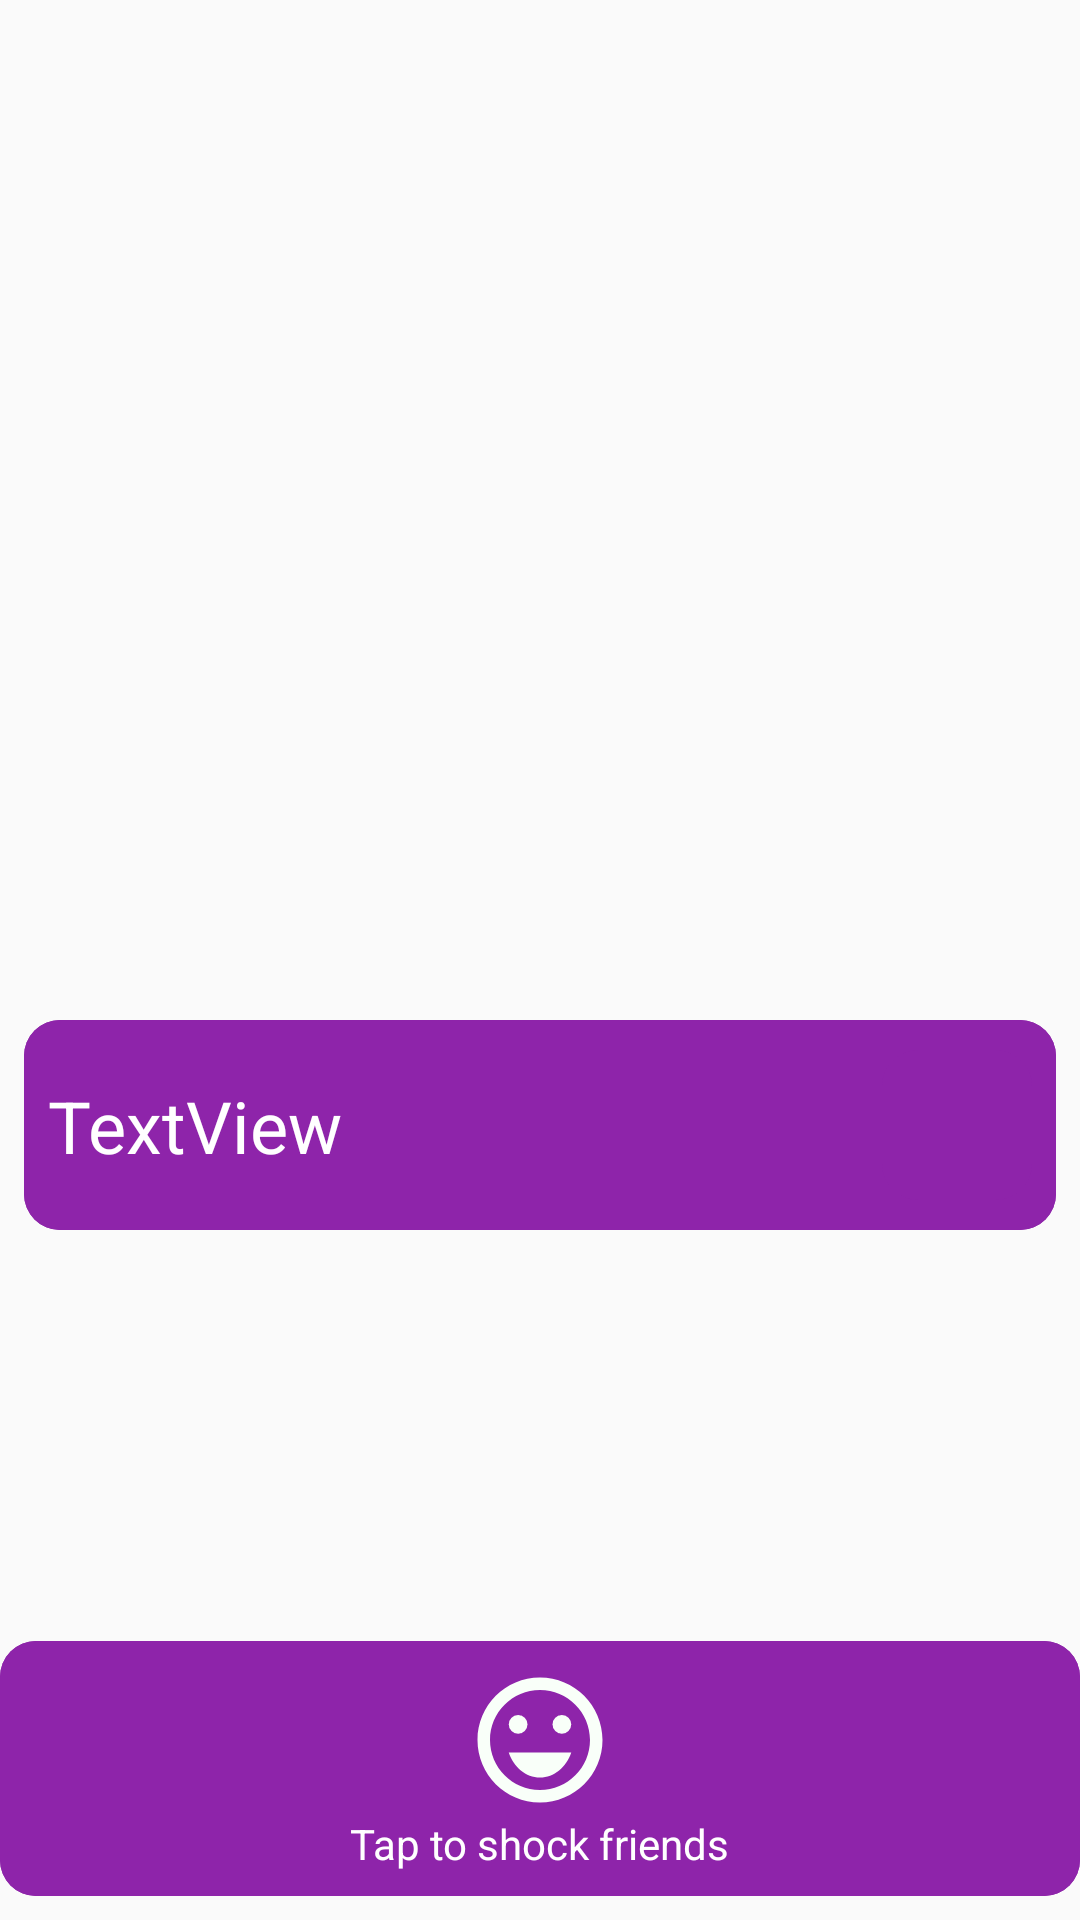

Point at icon controls on the screen. Image size 1080px x 1920px, points as point (x, y).
sentiment: point (540, 1740)
